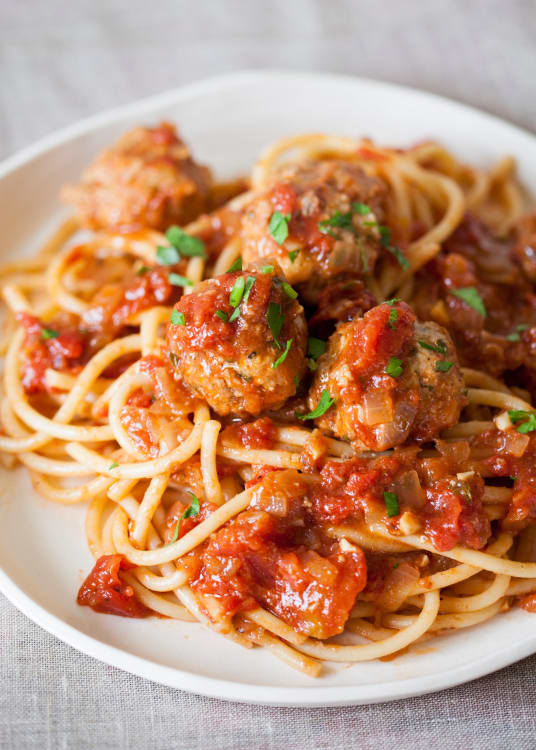meatballs: (167, 273, 301, 415), (321, 312, 458, 441), (250, 188, 380, 299), (76, 133, 209, 238)
plain spaghetti: (47, 422, 536, 653), (9, 242, 173, 467)
